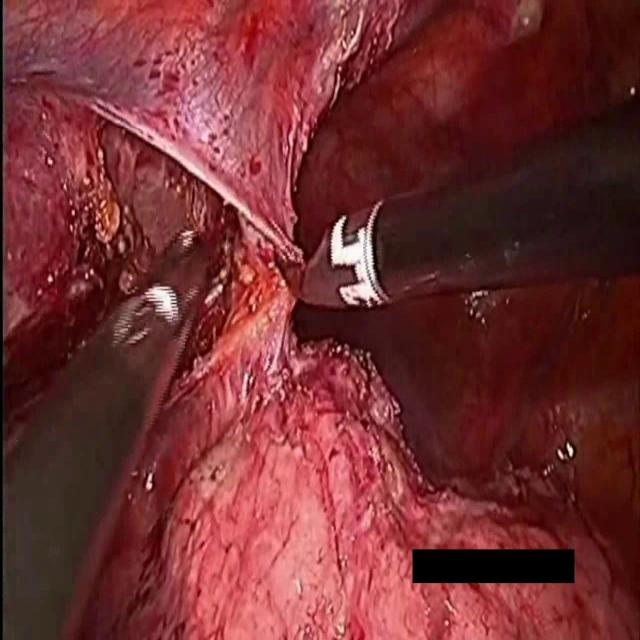surgical-area: (398, 543, 640, 639)
surgical-tool: (0, 234, 222, 639), (276, 92, 640, 313)
